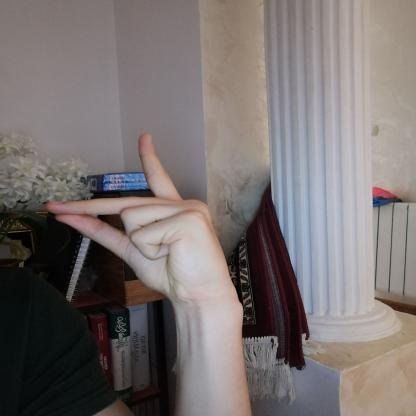TAA: (32, 125, 244, 307)
